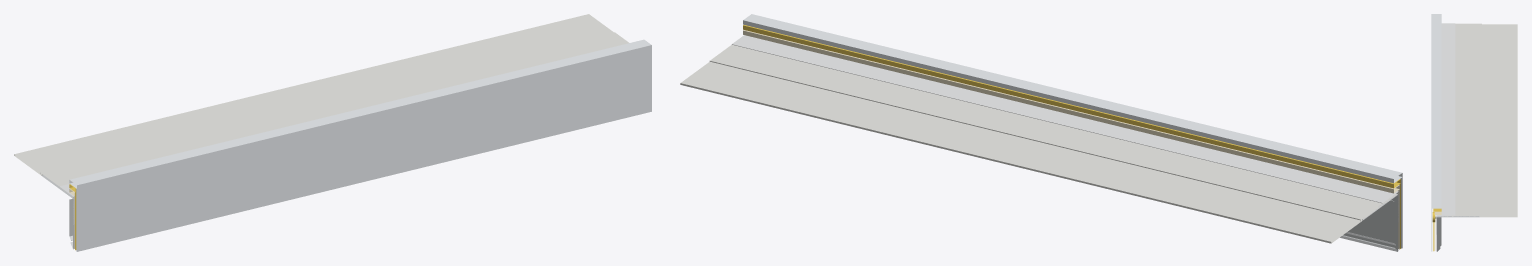
Rendered from perimeter-edge-metal-F-1-TYP.glb.
3 views of the same model, side by side, from view 1: azimuth 30°, elevation 25°; view 2: azimuth 150°, elevation 25°; view 3: azimuth 270°, elevation 25° (orthographic). The views are drawn at different scales.
Parts seen in each view (by area): view 1: topcoat__topcoat_face, existing__ply_field, existing__ply_flange, topcoat__topcoat_top; view 2: existing__ply_field, existing__ply_flange, topcoat__topcoat_top, primer__tape_top, flex__flex_top, primer__primer_top, existing__cleat, existing__fascia; view 3: existing__ply_field, existing__ply_flange, primer__tape_top, topcoat__topcoat_top, existing__hem, existing__cleat_kick, topcoat__topcoat_face, existing__flange.
Part boxes in pixels (bbox=[...]): topcoat__topcoat_face: bbox=[76, 49, 651, 251]; existing__ply_field: bbox=[14, 14, 613, 175]; existing__ply_flange: bbox=[40, 32, 628, 197]; topcoat__topcoat_top: bbox=[69, 39, 651, 188]; existing__ply_field: bbox=[680, 61, 1362, 243]; existing__ply_flange: bbox=[709, 45, 1397, 221]; topcoat__topcoat_top: bbox=[743, 14, 1402, 183]; primer__tape_top: bbox=[732, 35, 1398, 203]; flex__flex_top: bbox=[743, 25, 1400, 188]; primer__primer_top: bbox=[743, 30, 1399, 193]; existing__cleat: bbox=[1348, 200, 1394, 242]; existing__fascia: bbox=[1343, 195, 1398, 251]; existing__ply_field: bbox=[1480, 24, 1517, 217]; existing__ply_flange: bbox=[1437, 23, 1481, 216]; primer__tape_top: bbox=[1436, 23, 1455, 215]; topcoat__topcoat_top: bbox=[1431, 14, 1441, 208]; existing__hem: bbox=[1436, 217, 1440, 251]; existing__cleat_kick: bbox=[1439, 217, 1441, 246]; topcoat__topcoat_face: bbox=[1431, 206, 1432, 251]; existing__flange: bbox=[1436, 216, 1479, 217].
Bounding box in the file's own units: 1.22 × 0.1357 × 0.2311.
